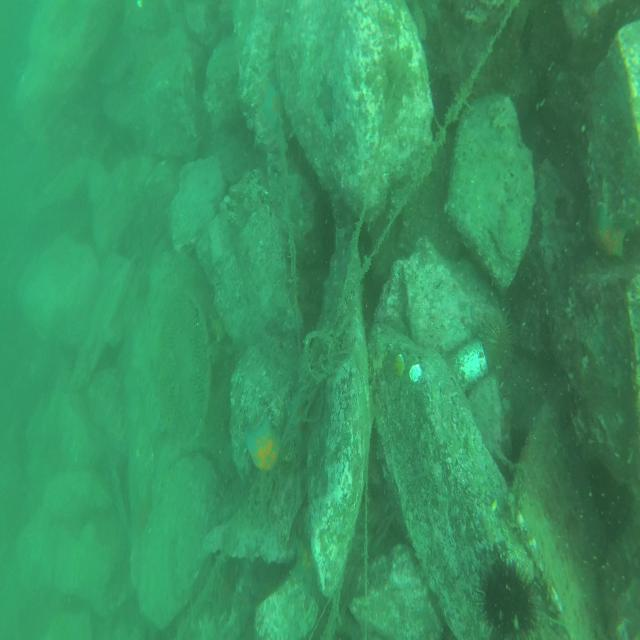echinus: (474, 546, 540, 640), (477, 295, 520, 384)
starfish: (284, 538, 326, 609), (243, 418, 285, 482), (584, 205, 626, 267), (260, 77, 288, 137)
